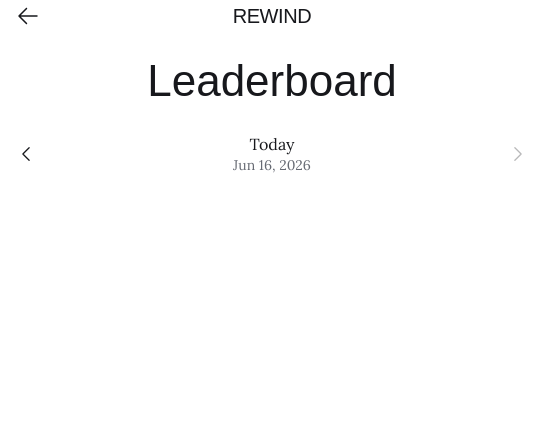
Test: disables previous-day navigation when the current board has no earlier history
Expected: the heading "Leaderboard" is shown, [147,56,397,106]
Click the button named "Previous day" at (26, 154), box [16,144,36,164]
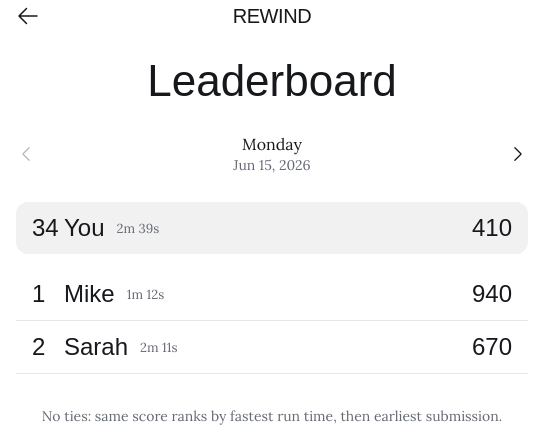
Expected: the button named "Previous day" is disabled, [16,144,36,164]
